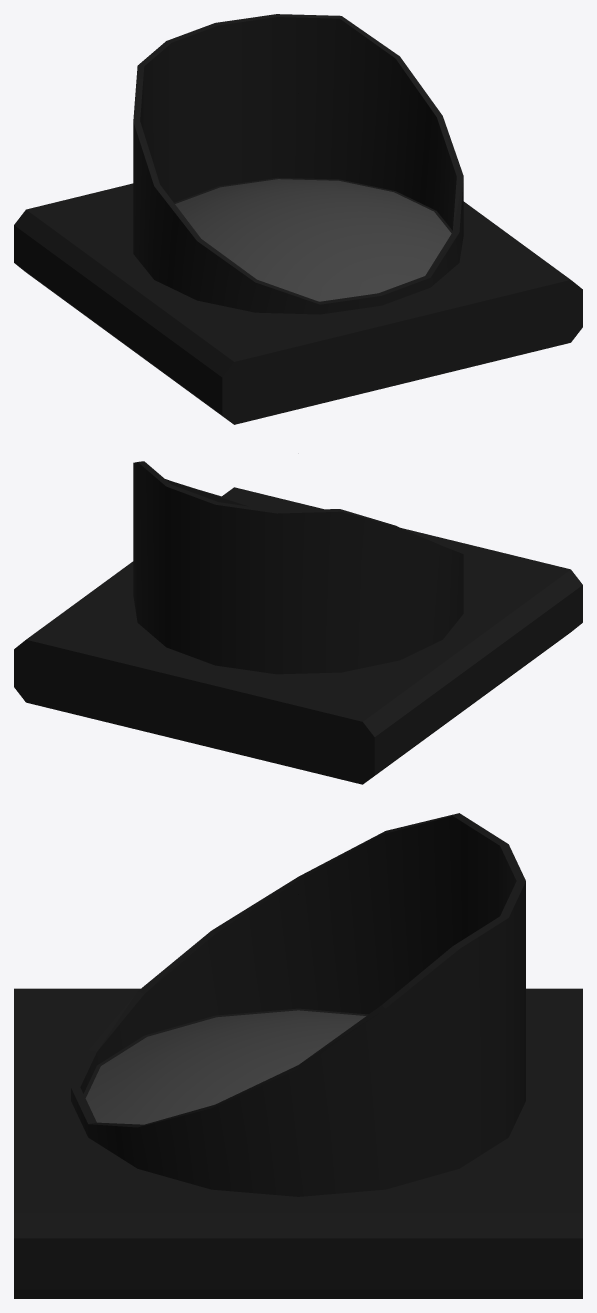
The model's file is Light_XinHaoDeng_2X2_off.FBX.
The picture shows the model from 3 angles, top to bottom: view 1: azimuth 30°, elevation 25°; view 2: azimuth 150°, elevation 25°; view 3: azimuth 270°, elevation 25°; orthographic projection. The views are drawn at different scales.
Parts seen in each view (by area): view 1: Box003; view 2: Box003; view 3: Box003.
Boxes of the visible parts, x1=… form: Box003: x1=14, y1=14, x2=582, y2=424; Box003: x1=14, y1=461, x2=582, y2=784; Box003: x1=14, y1=813, x2=582, y2=1298.
Bounding box in the file's own units: 2 × 1.19 × 2.
